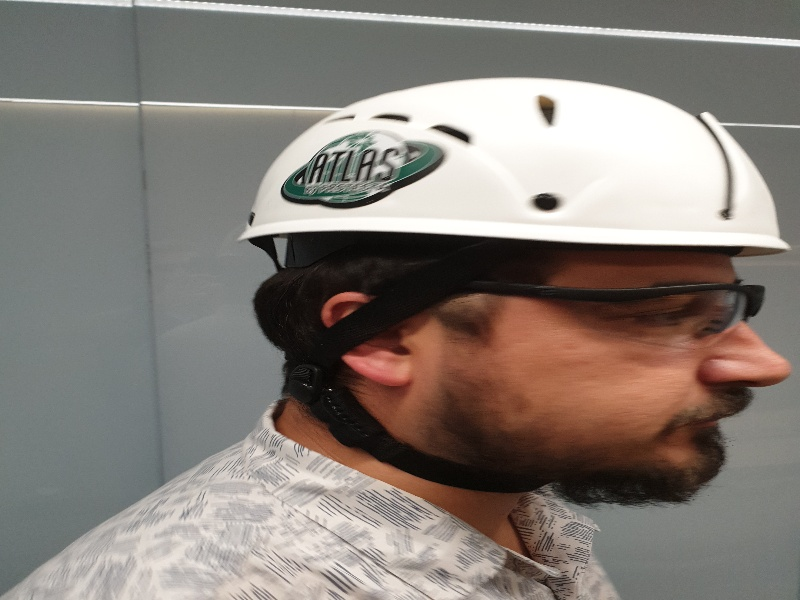Baret: (241, 79, 786, 255)
Gozluk: (424, 284, 765, 346)
